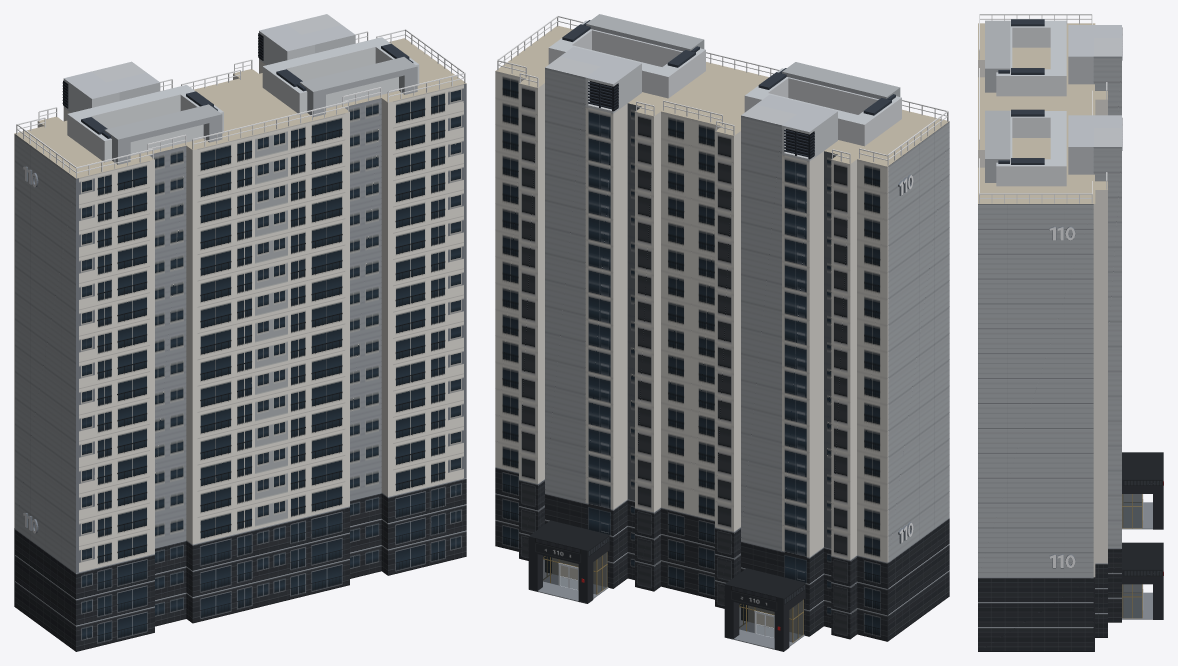
The model's file is place_금파힐110.glb.
3 renders of one model, left to right at view 1: azimuth 30°, elevation 25°; view 2: azimuth 150°, elevation 25°; view 3: azimuth 270°, elevation 25°, orthographic. The views are drawn at different scales.
Parts seen in each view (by area): view 1: KumhoParkHills_110; view 2: KumhoParkHills_110; view 3: KumhoParkHills_110.
Boxes of the visible parts, box(x1,y1,x2,y2) form: KumhoParkHills_110: box(14, 14, 466, 651); KumhoParkHills_110: box(495, 14, 949, 651); KumhoParkHills_110: box(978, 14, 1163, 651).
Size of the model in its own units: 41.54 by 50.65 by 17.94.
120 materials, 49 textured.
